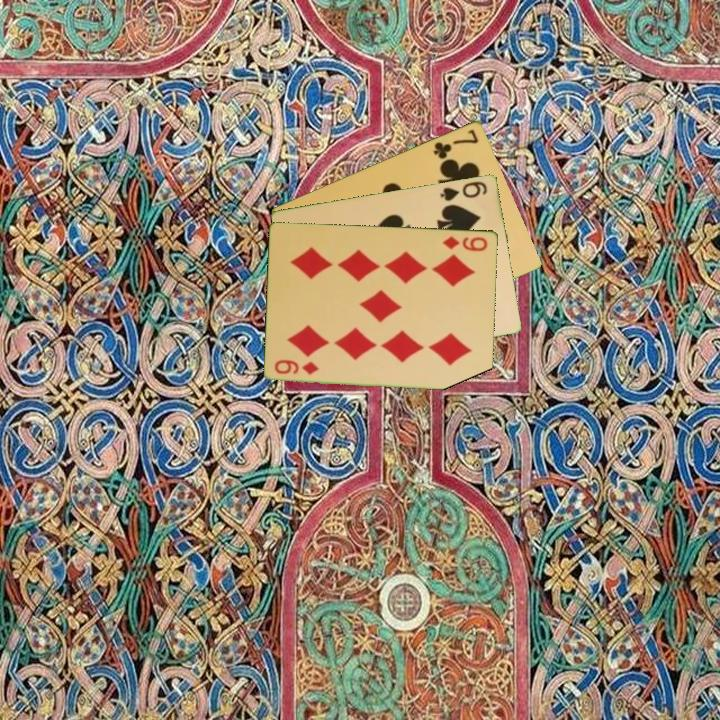6s: (437, 177, 490, 203)
7c: (430, 125, 481, 162)
9d: (439, 232, 490, 254), (271, 357, 322, 377)
